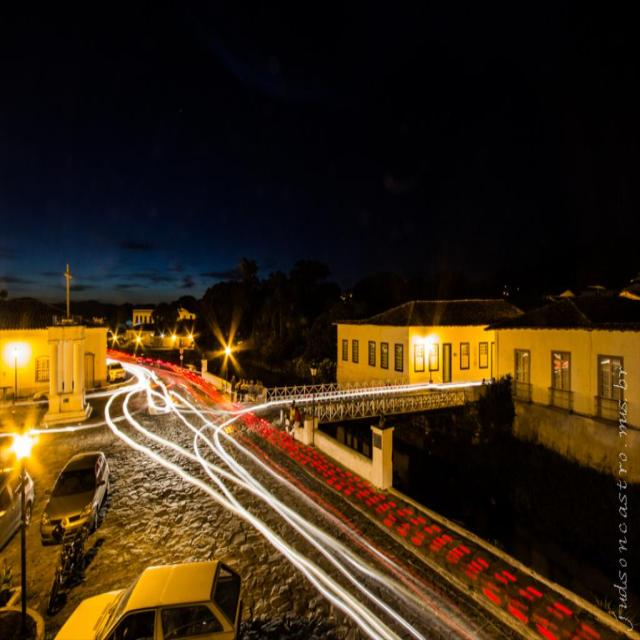car: (54, 556, 244, 637), (26, 453, 100, 572), (0, 460, 36, 556), (106, 356, 125, 378)
